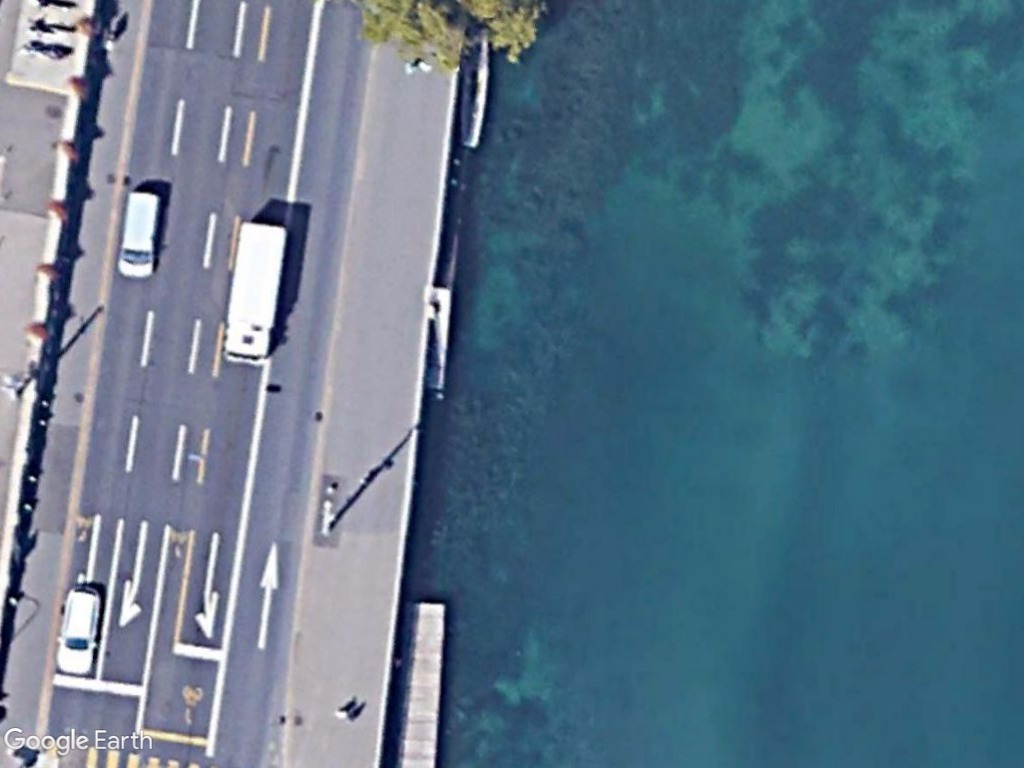car: (55, 583, 102, 677)
truck: (217, 217, 291, 362)
van: (114, 184, 161, 282)
